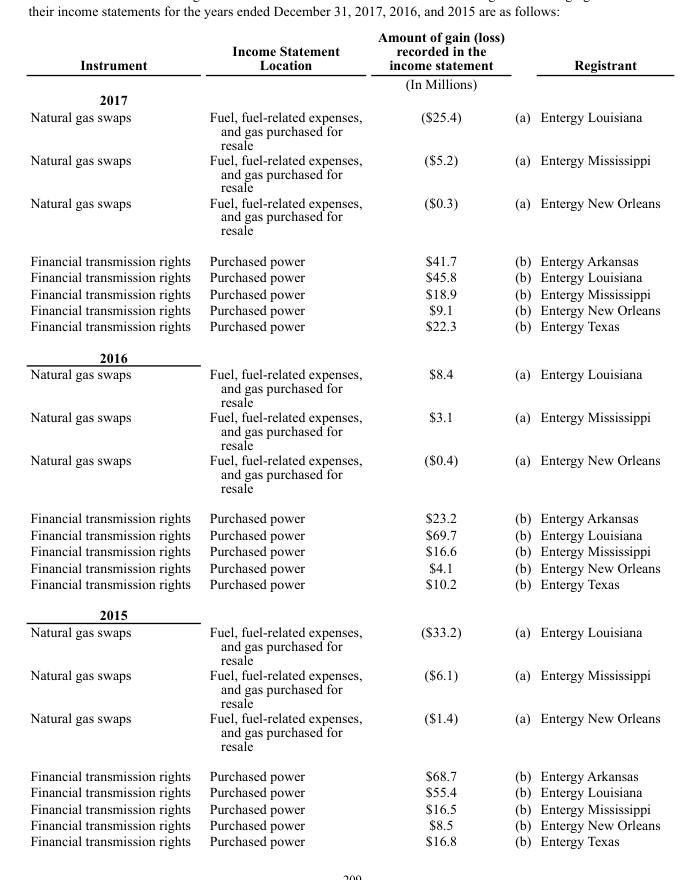table: (29, 28, 659, 848)
table column: (29, 28, 199, 848), (199, 28, 369, 848), (369, 28, 534, 848), (534, 28, 659, 848)
table column header: (29, 28, 659, 91)
table projected row header: (29, 341, 659, 365), (29, 598, 659, 622), (29, 91, 659, 107)
table row: (29, 28, 659, 91), (29, 451, 659, 502), (29, 709, 659, 760), (29, 194, 659, 244), (29, 107, 659, 151), (29, 622, 659, 666), (29, 151, 659, 194), (29, 365, 659, 408), (29, 408, 659, 451), (29, 666, 659, 709), (29, 244, 659, 268), (29, 317, 659, 341), (29, 341, 659, 365), (29, 598, 659, 622), (29, 502, 659, 525), (29, 575, 659, 598), (29, 760, 659, 783), (29, 284, 659, 301), (29, 525, 659, 542), (29, 558, 659, 575), (29, 799, 659, 816), (29, 91, 659, 107), (29, 268, 659, 284), (29, 301, 659, 317), (29, 542, 659, 558), (29, 783, 659, 799), (29, 816, 659, 832), (29, 832, 659, 848)
